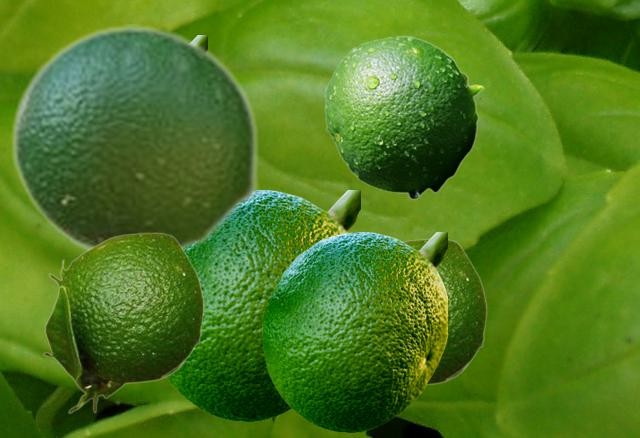dalandan: (10, 24, 259, 253), (166, 190, 359, 420), (262, 232, 446, 431), (42, 232, 203, 413), (324, 35, 483, 199), (404, 238, 486, 385)
